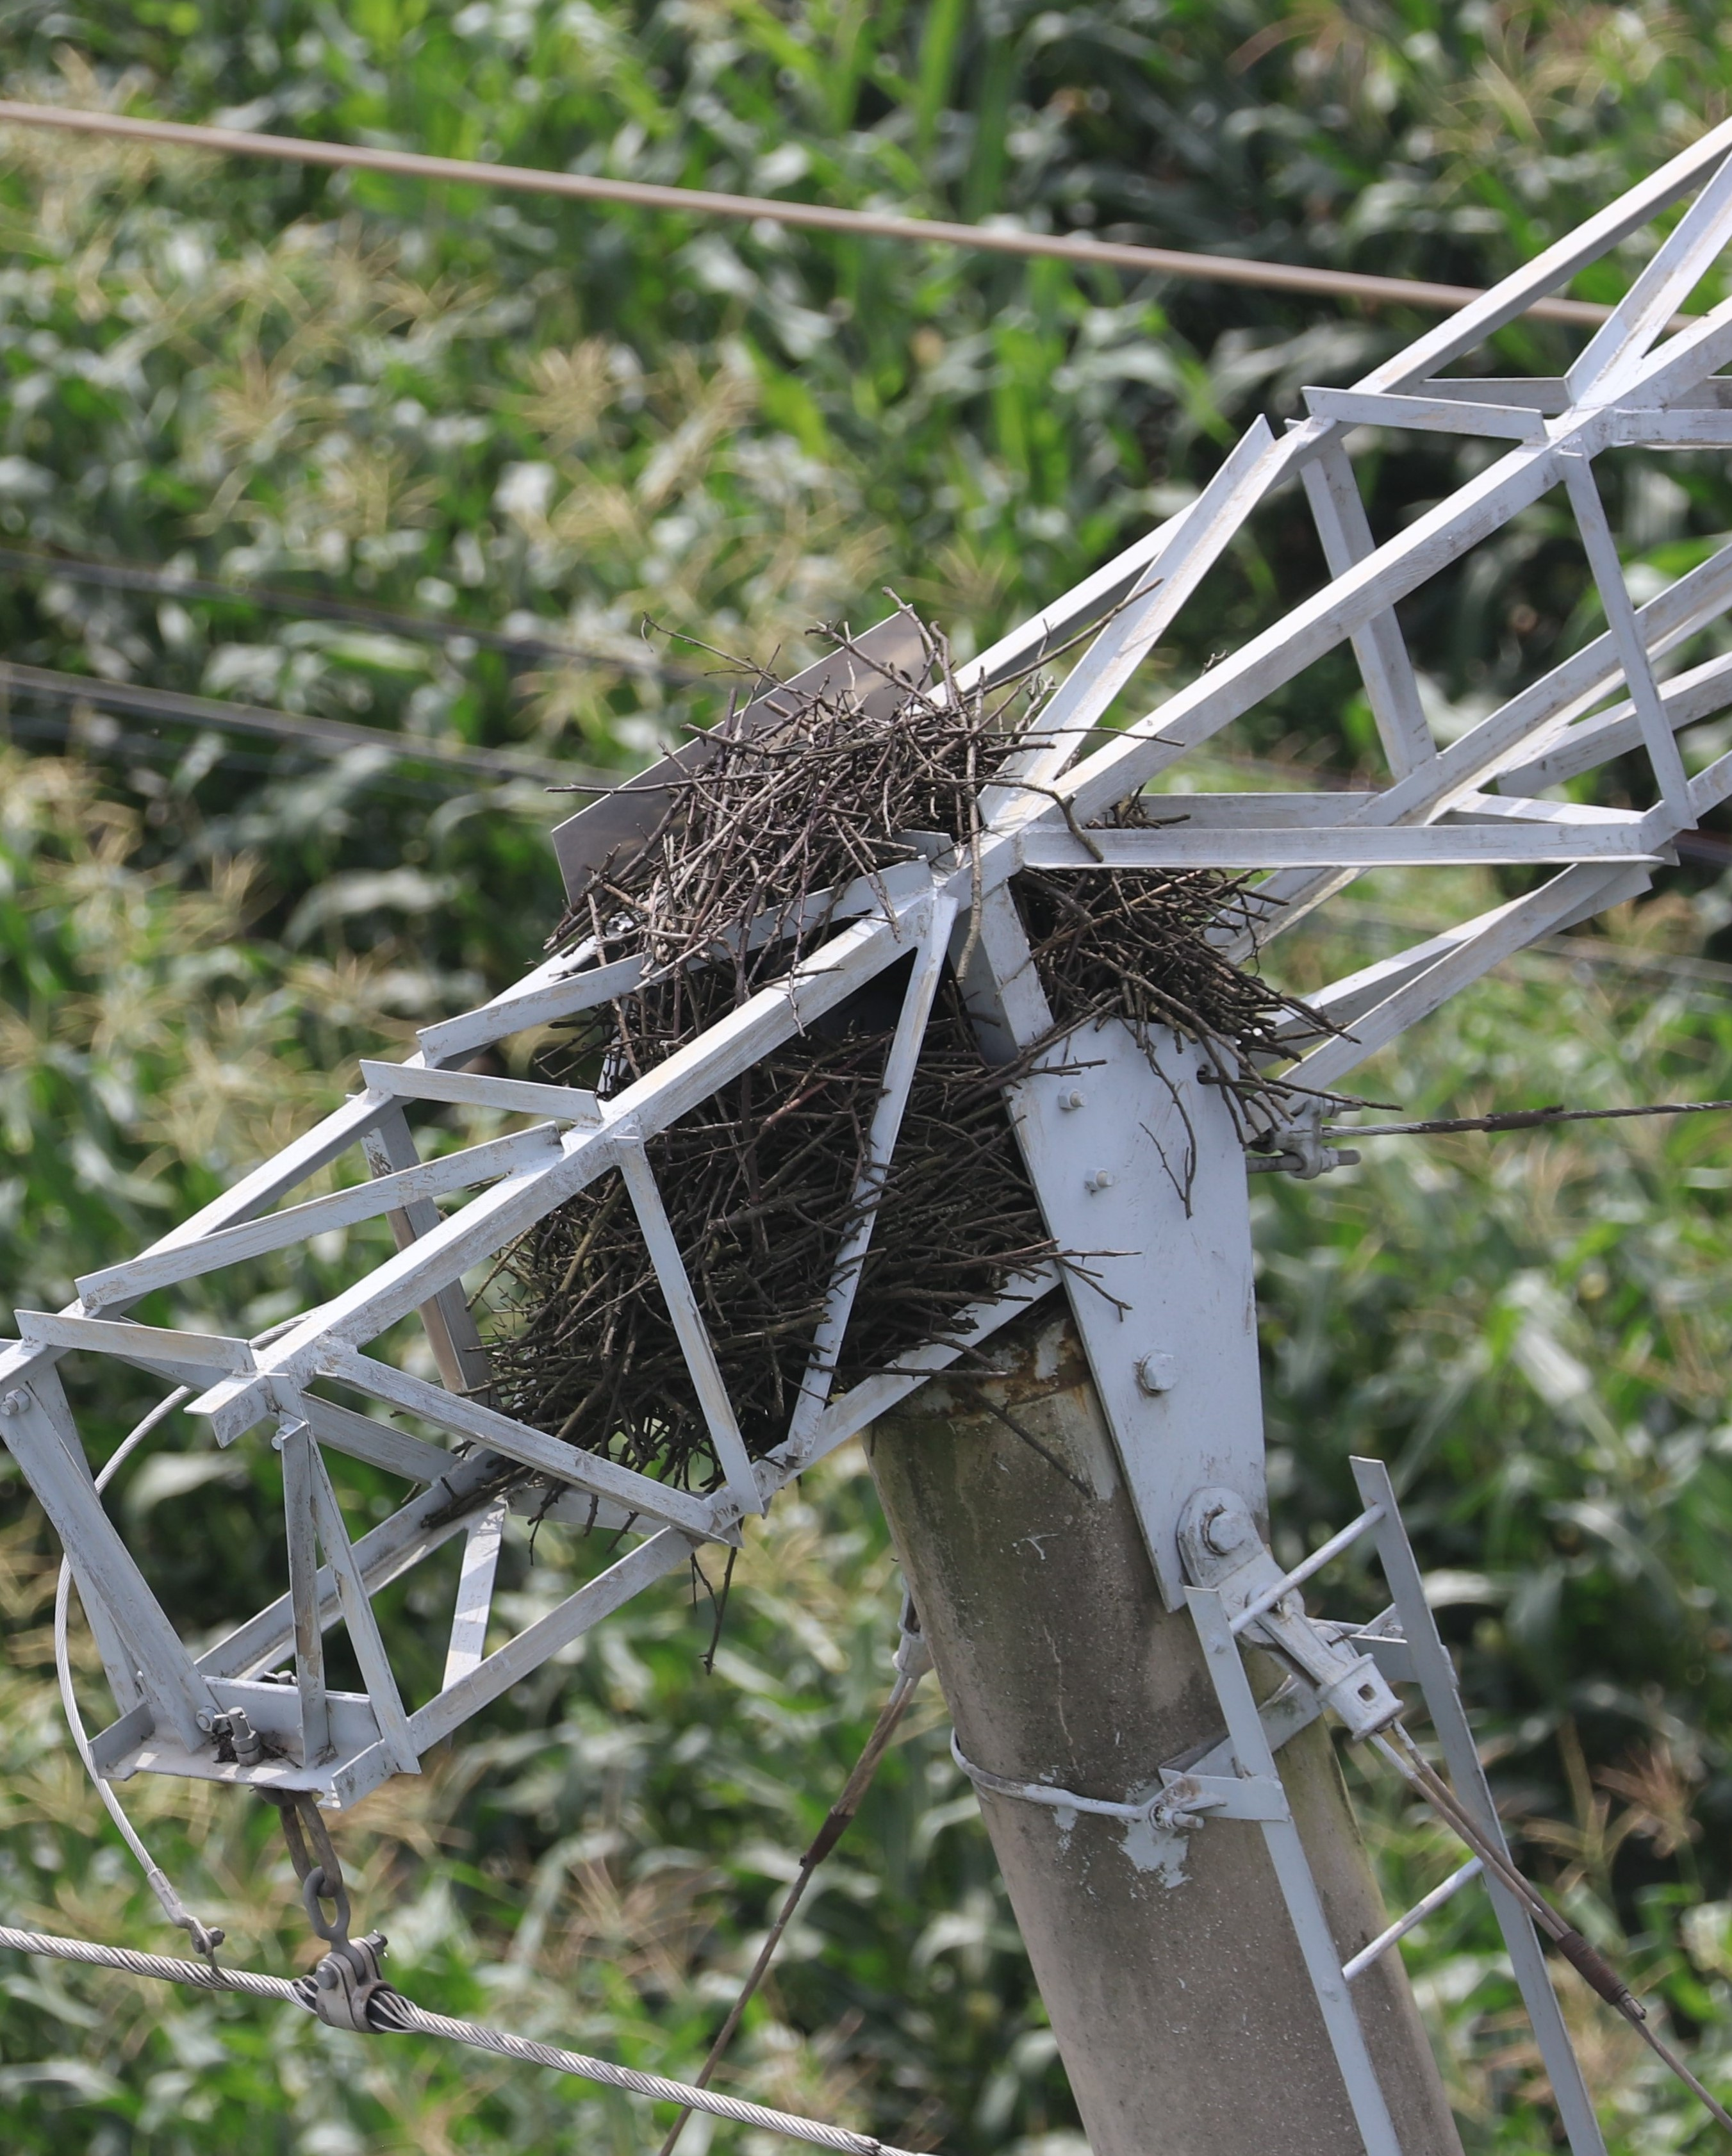niaowo: (440, 682, 1315, 1492)
